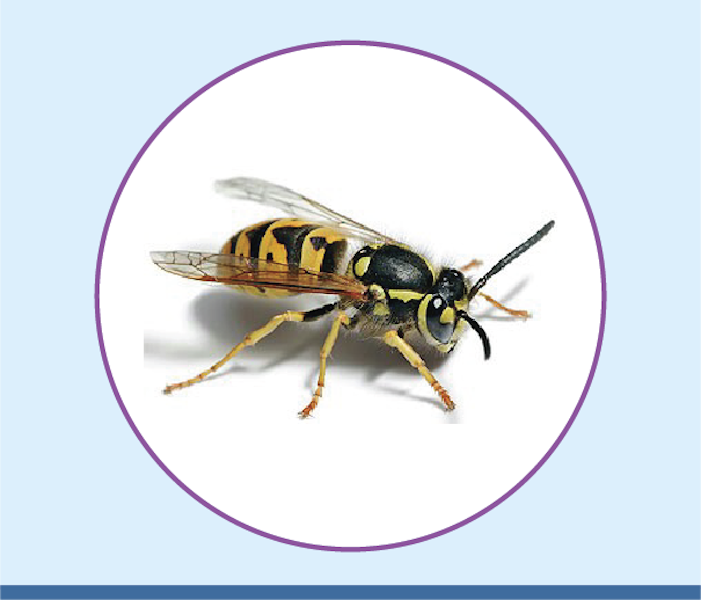chax: (144, 167, 567, 434)
